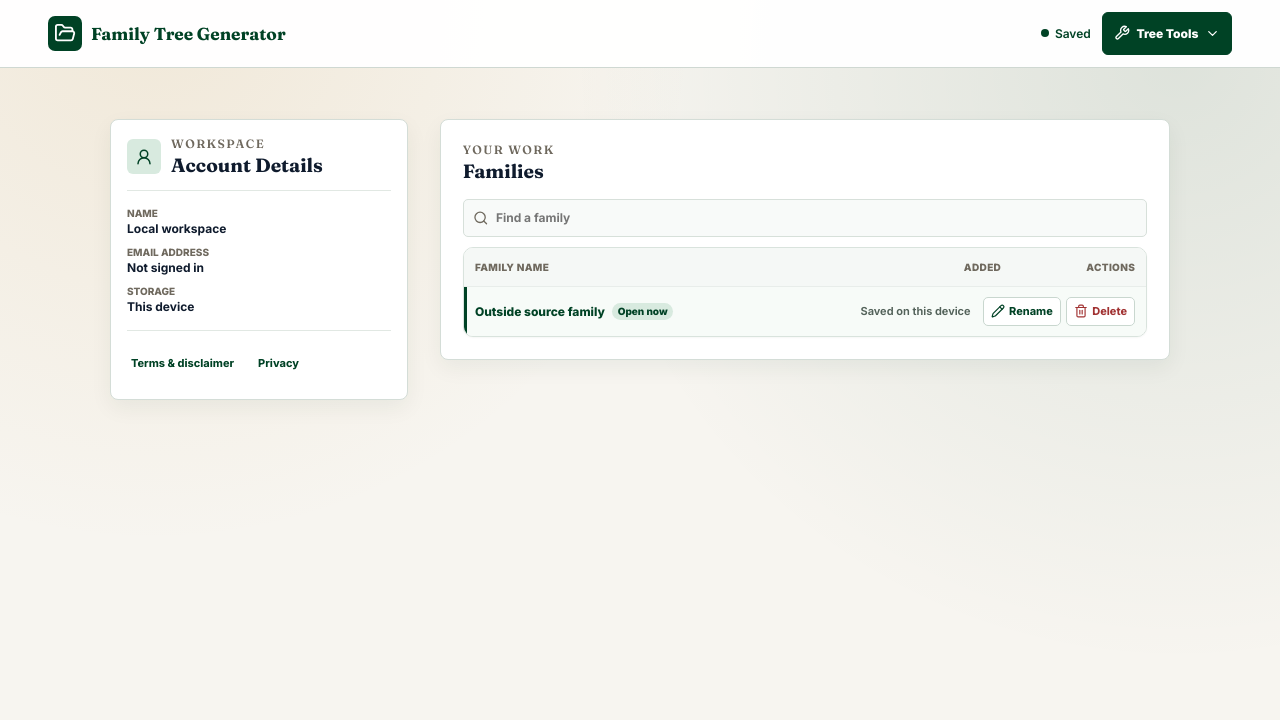
App local recovery › opens an outside provenance owner from a family recipient's tax details
The width and height of the screenshot is (1280, 720).
What coordinates should you click on to do the following:
click the button with class "family-name-button"
I would click on:
 (662, 311)
Its box is x1=475 y1=303 x2=850 y2=320.
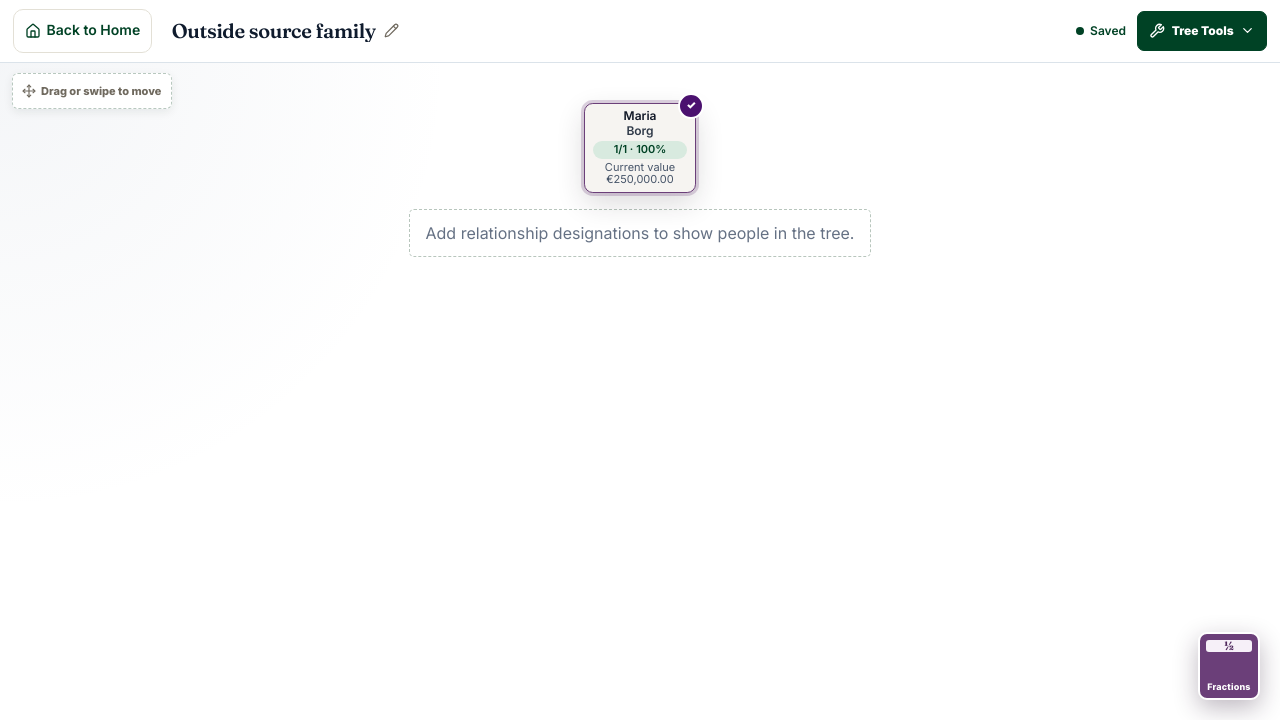
What coordinates should you click on to do the following:
click the button "Maria Borg 1/1 · 100% Current value €250,000.00"
I would click on:
 (640, 148)
Its box is x1=584 y1=103 x2=696 y2=193.
(page scrolled)
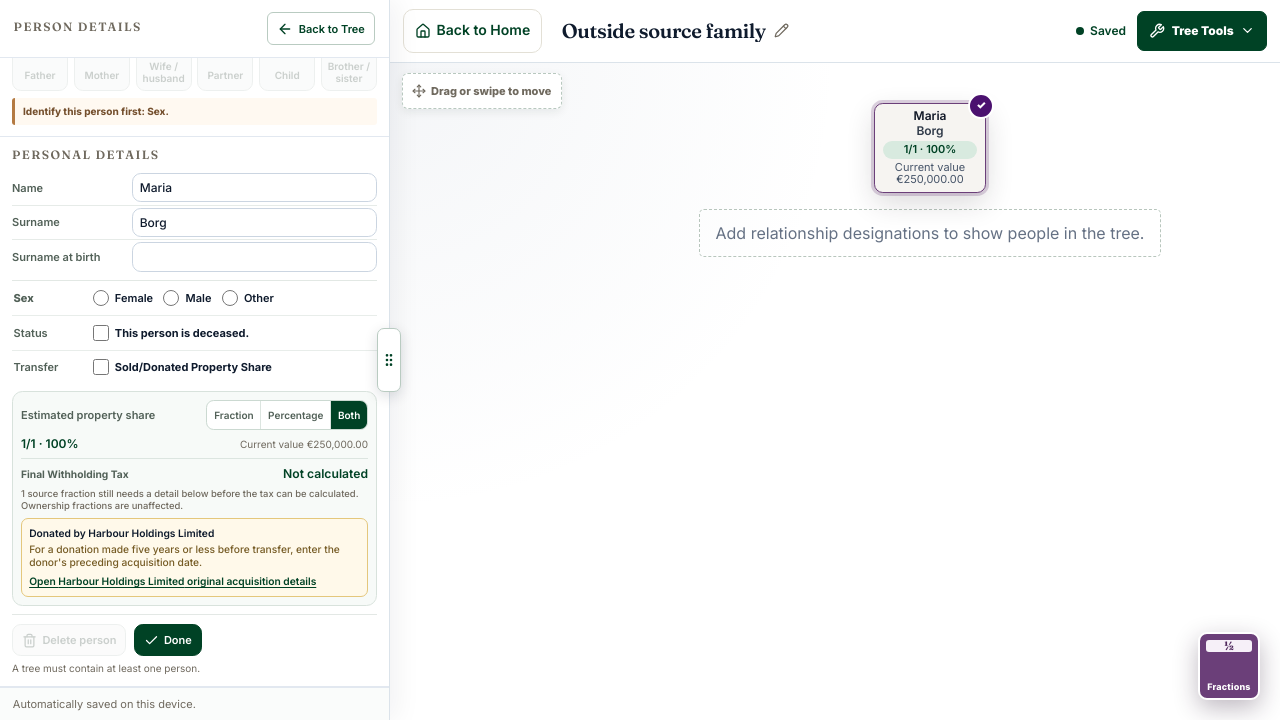
Expected: the button "Open Harbour Holdings Limited original acquisition details" is shown
What coordinates should you click on to do the following:
click the button "Open Harbour Holdings Limited original acquisition details"
I would click on:
 (173, 581)
Its box is x1=29 y1=573 x2=316 y2=588.
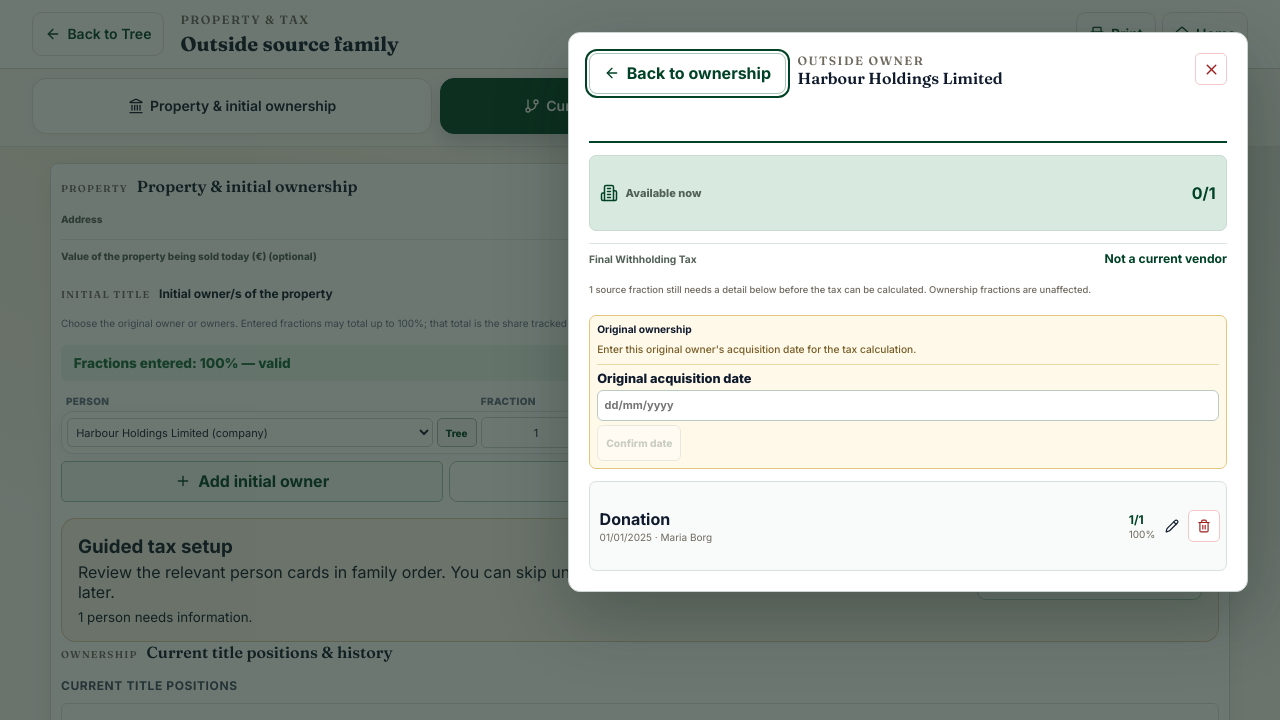
Expected: the heading with id "outside-owner-title" reads "Harbour Holdings Limited", x1=798 y1=68 x2=1003 y2=88
Expected: the element that starts with "Back to Tree" is shown
Expected: the button "Current title positions & history" is shown, x1=440 y1=78 x2=840 y2=134
